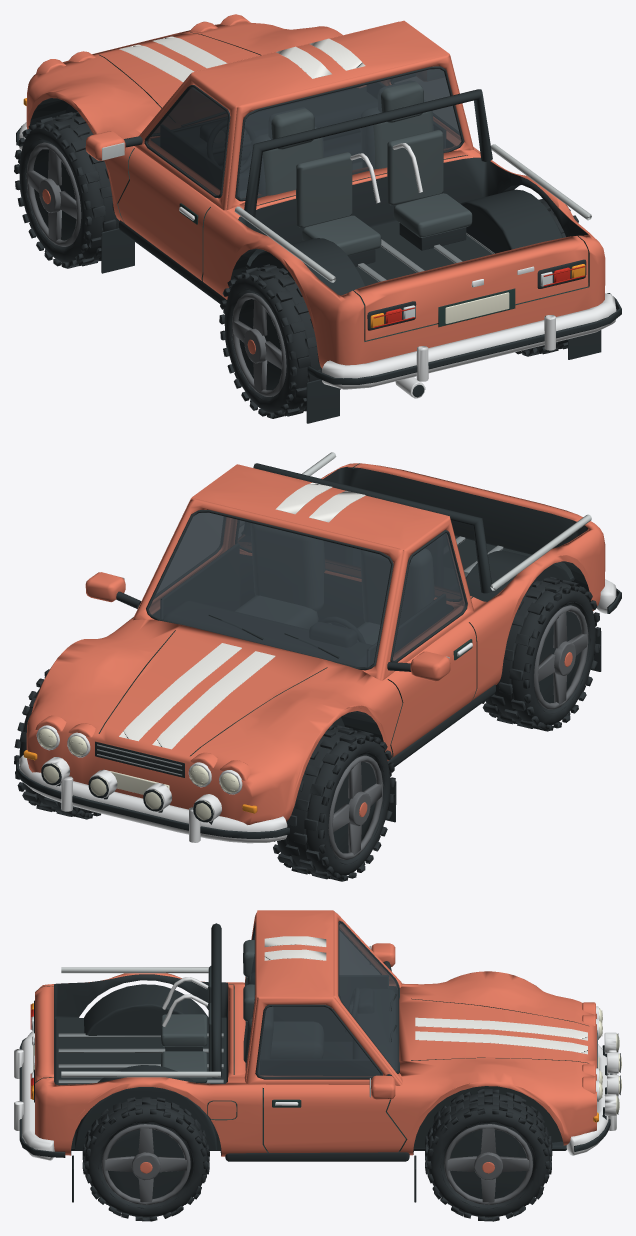
Rendered from kiri_lod2.fbx.
The picture shows the model from 3 angles, top to bottom: view 1: azimuth 30°, elevation 25°; view 2: azimuth 150°, elevation 25°; view 3: azimuth 270°, elevation 25°; orthographic projection. The views are drawn at different scales.
Parts seen in each view (by area): view 1: Body, Wheel_FL_Mesh, Wheel_RL_Mesh, Wheel_RR_Mesh; view 2: Body, Wheel_FL_Mesh, Wheel_RL_Mesh, Wheel_FR_Mesh; view 3: Body, Wheel_FR_Mesh, Wheel_RR_Mesh.
Boxes of the visible parts, x1,y1,x2,y2 form: Body: (16,14,621,423); Wheel_FL_Mesh: (14,112,119,268); Wheel_RL_Mesh: (219,264,340,418); Wheel_RR_Mesh: (515,199,578,356); Body: (16,452,621,843); Wheel_FL_Mesh: (273,725,395,881); Wheel_RL_Mesh: (482,577,600,731); Wheel_FR_Mesh: (14,669,100,819); Body: (14,910,621,1202); Wheel_FR_Mesh: (425,1089,552,1221); Wheel_RR_Mesh: (82,1097,209,1221).
Bounding box in the file's own units: 234 × 162 × 416.
